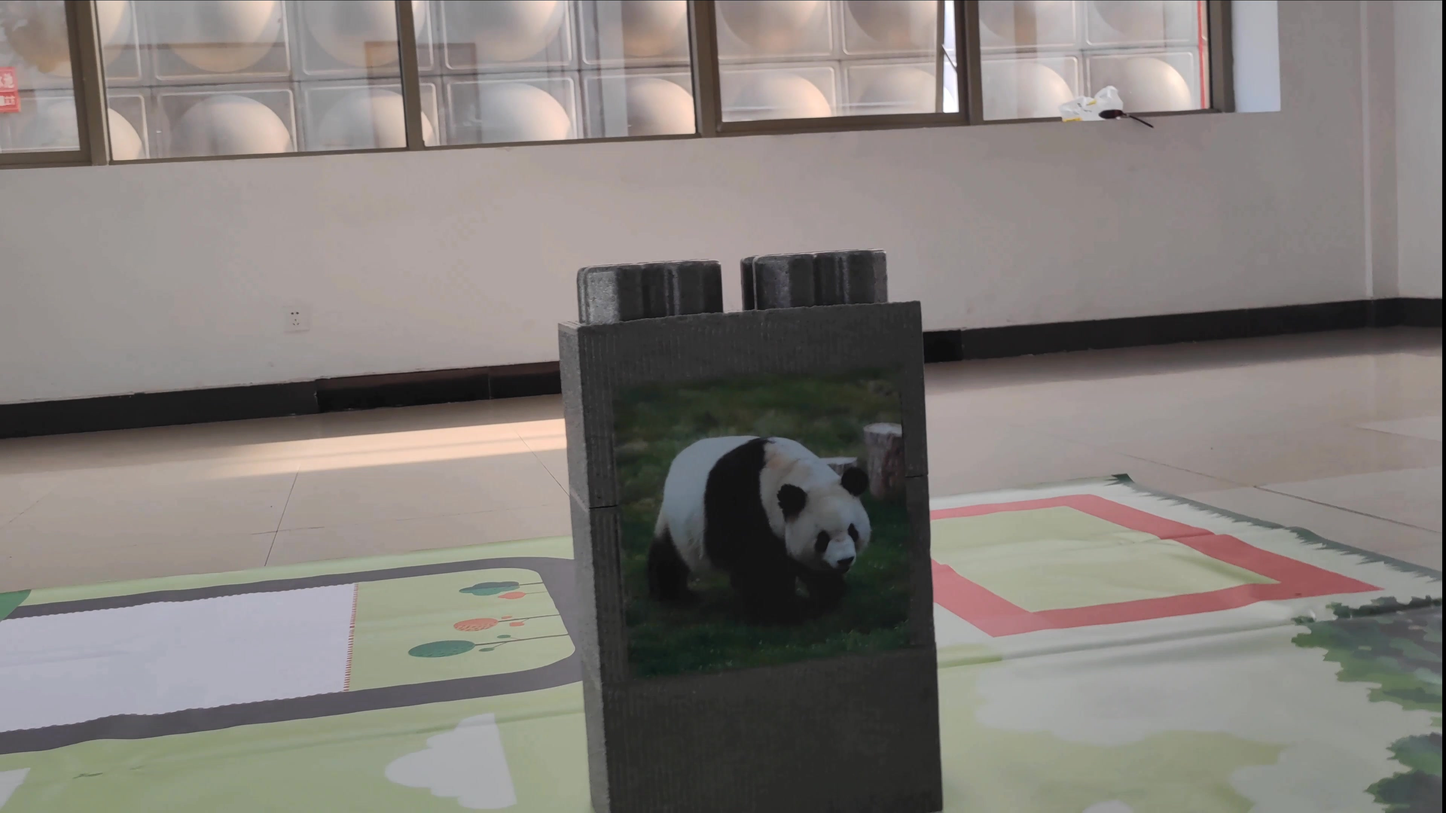panda: (649, 412, 888, 671)
